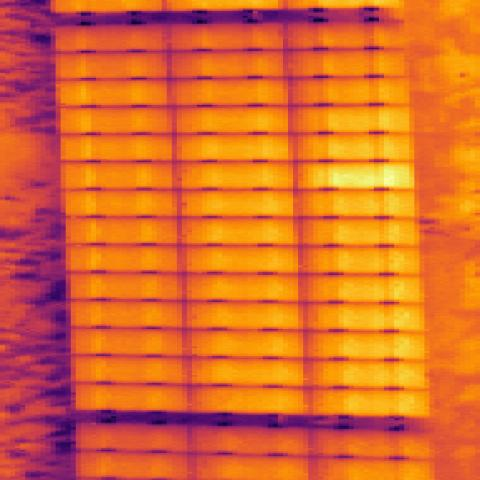fault: (309, 164, 414, 190)
